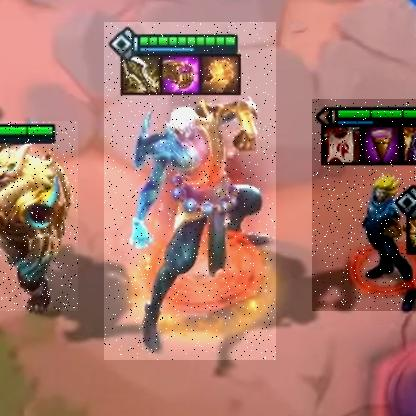1_ezreal: (312, 99, 416, 311)
1_volibear: (0, 121, 78, 311)
2_leesin: (104, 22, 276, 360)
